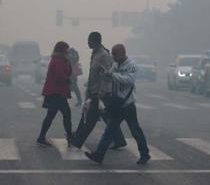person: (84, 42, 154, 166), (66, 32, 129, 149), (37, 39, 79, 148), (67, 47, 86, 107)
